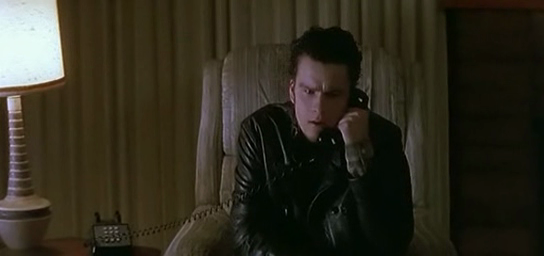face: (296, 60, 348, 141)
ms: (1, 1, 544, 256)
person: (229, 25, 414, 256)
